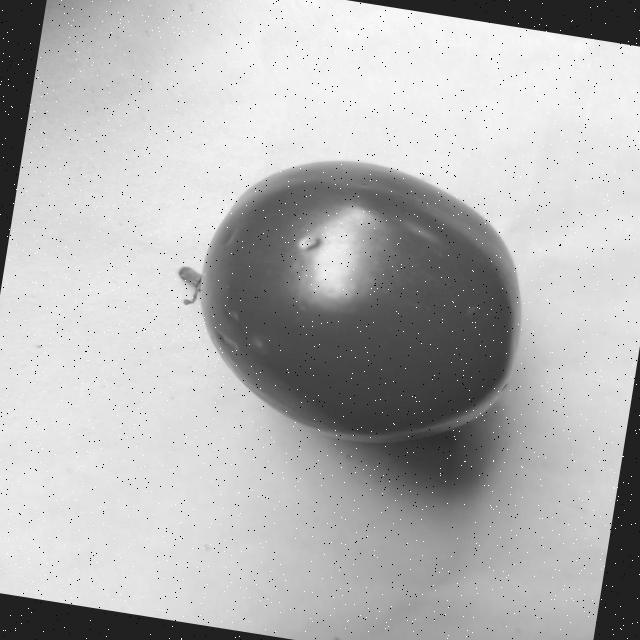Ripe: (178, 126, 552, 466)
